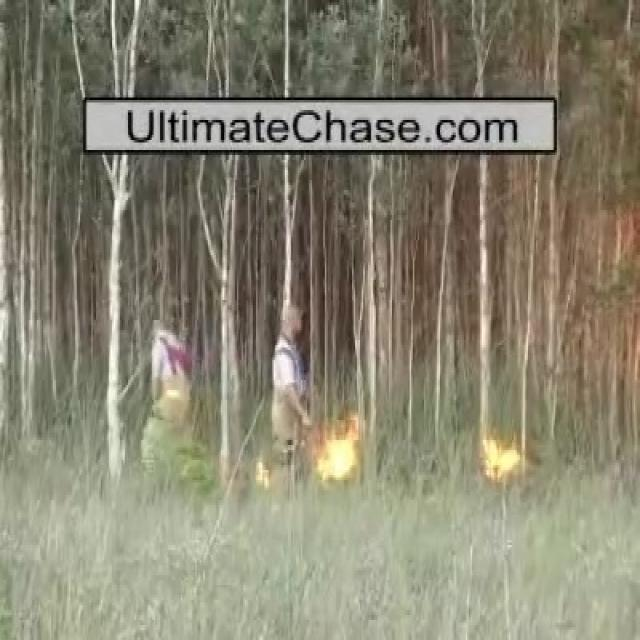fire: (318, 433, 352, 479), (484, 438, 518, 479)
